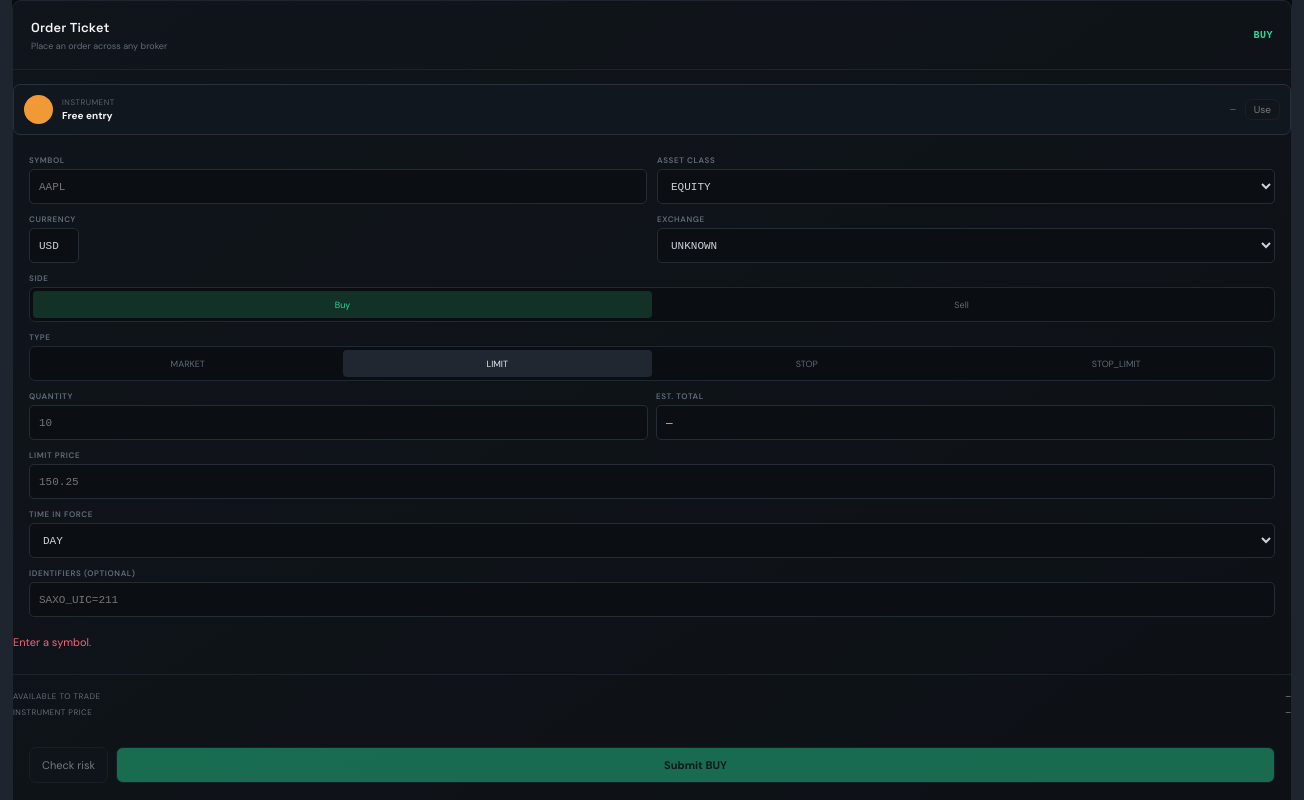
Test case: OrderTicket › shows stop price input only for stop order types
Expected: the field labelled "Stop price" is not shown
M1: the order type is the Figma segmented control (radiogroup).
Click the radio button labelled "STOP_LIMIT" at (1116, 364), box left=962, top=350, right=1271, bottom=377
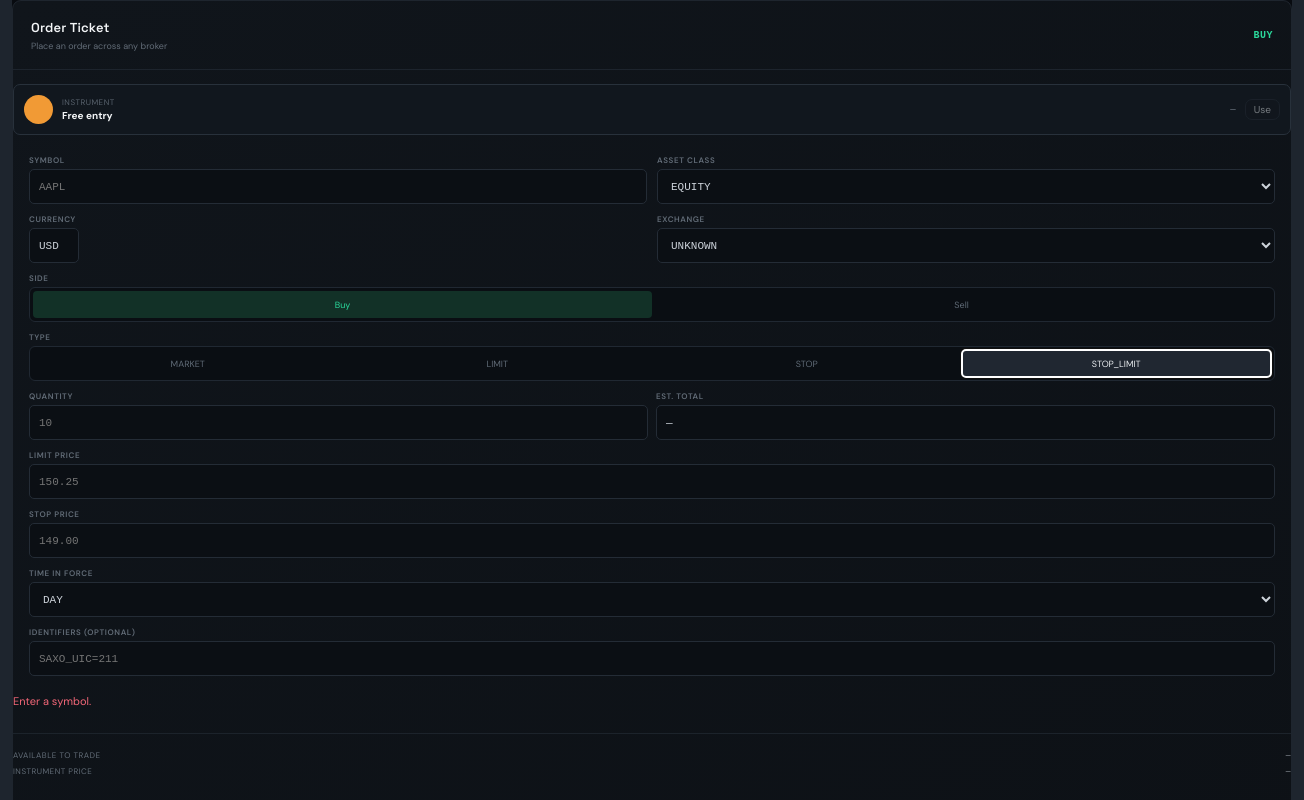
Expected: the field labelled "Stop price" is shown, left=29, top=523, right=1275, bottom=558
